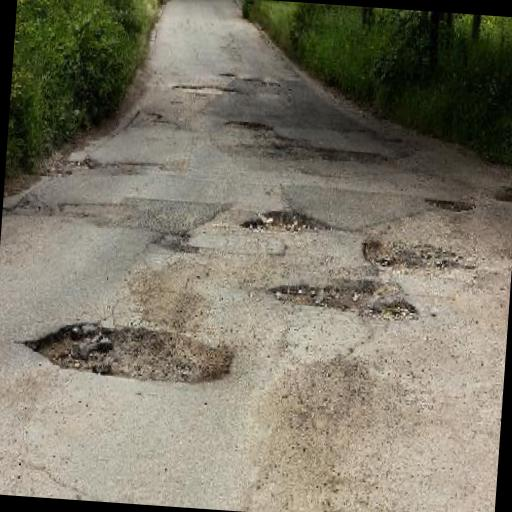pothole: (22, 314, 240, 390), (266, 268, 422, 326), (362, 236, 464, 278), (242, 206, 334, 236), (152, 227, 203, 259), (424, 192, 478, 214), (172, 80, 242, 96), (224, 117, 276, 134), (493, 185, 512, 202)
